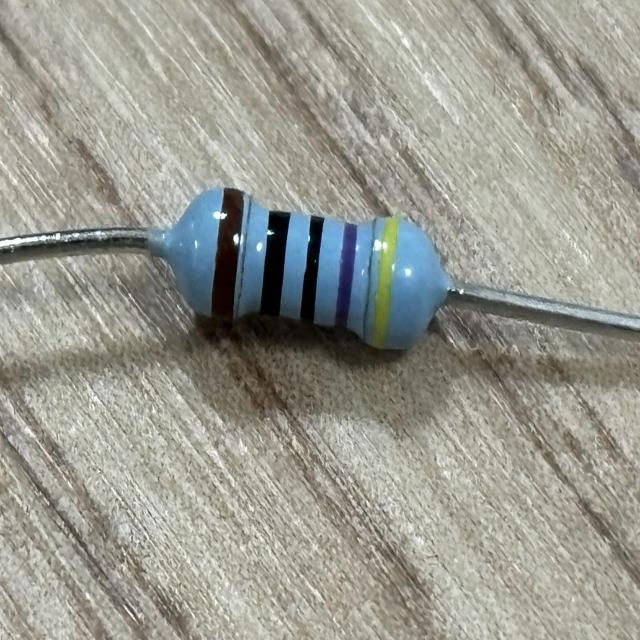resistor: (190, 186, 421, 356)
